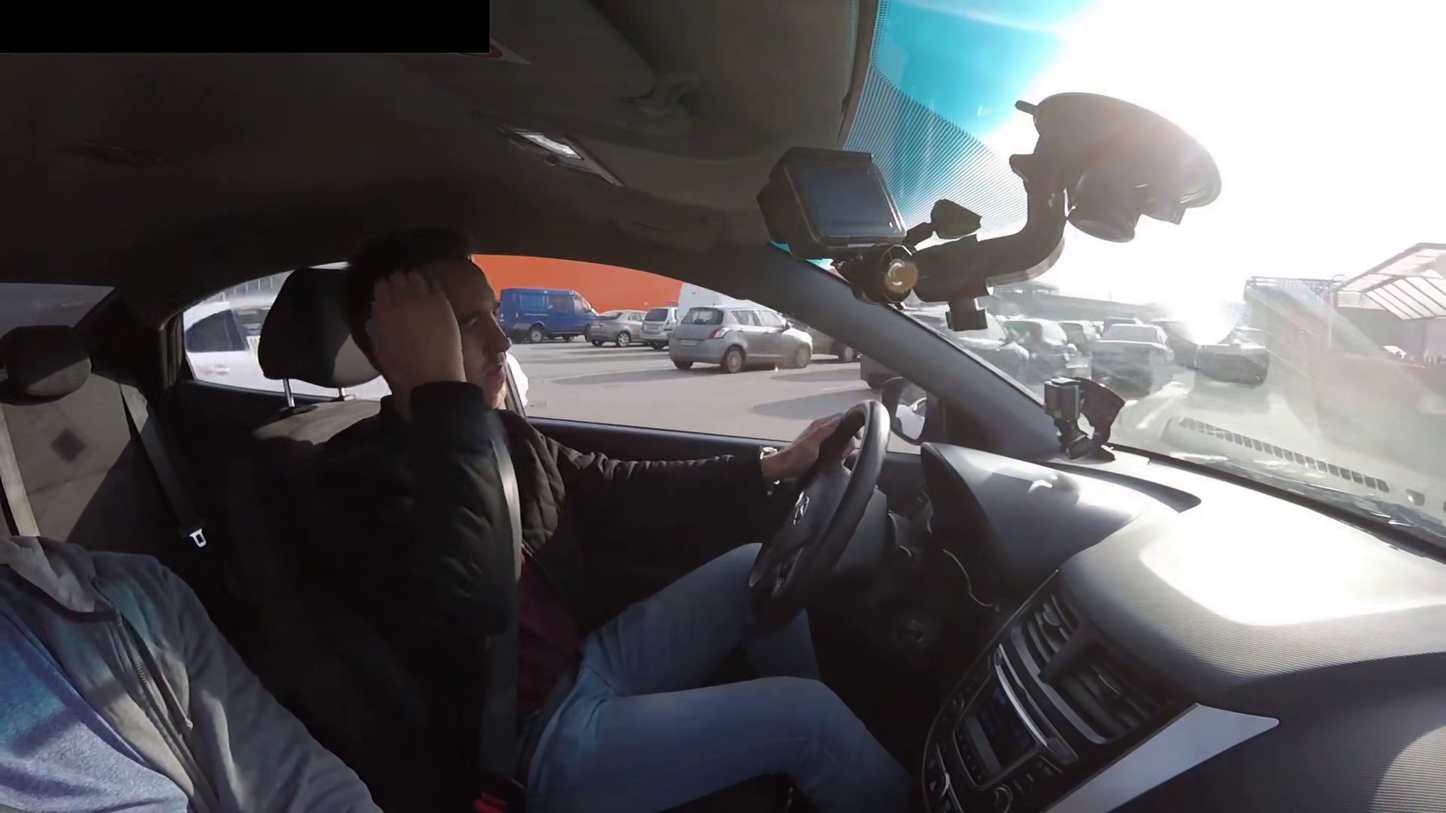car: (212, 323, 944, 780), (665, 294, 824, 372)
